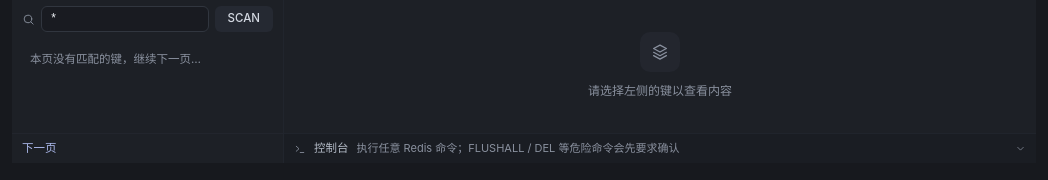
Test case: DbPanel Redis states › an empty page with a non-zero cursor prompts for the next page instead of no matching keys
This screenshot has width=1048, height=180.
Click the button "下一页". click: [39, 148]
box: [12,133,283,163]
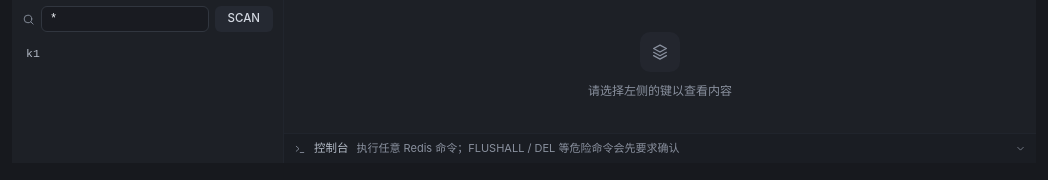
Expected: the text "本页没有匹配" is gone
